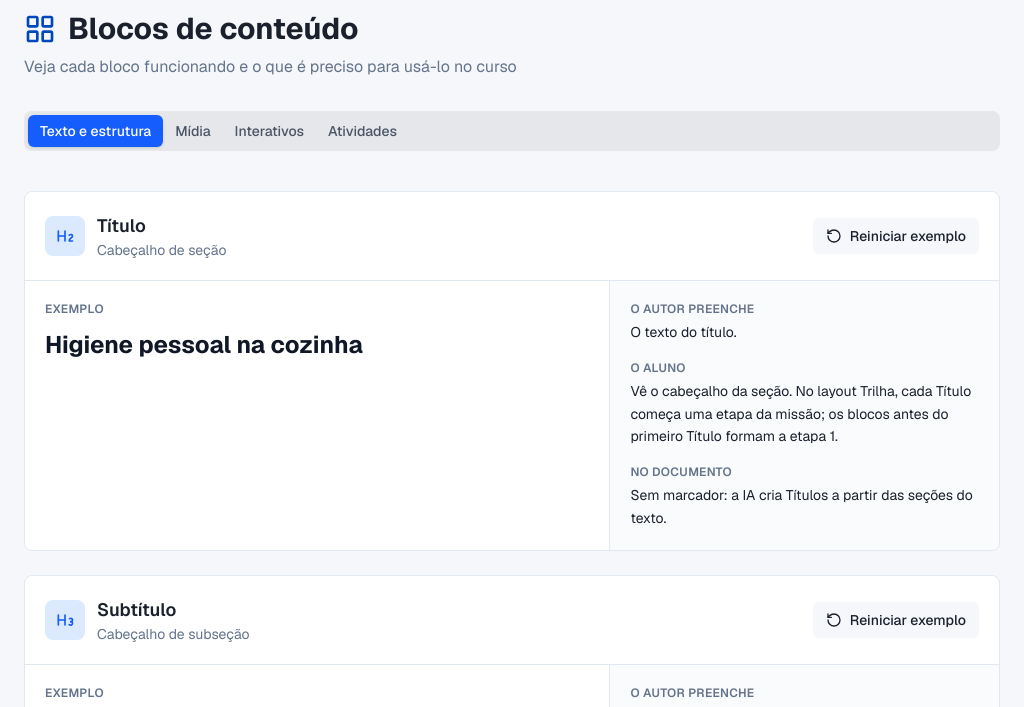
Scenario: blocks showcase page › lists the Atividades entries with their guide
Click the tab "Atividades". click: (362, 131)
box: left=316, top=115, right=409, bottom=147
(page scrolled)
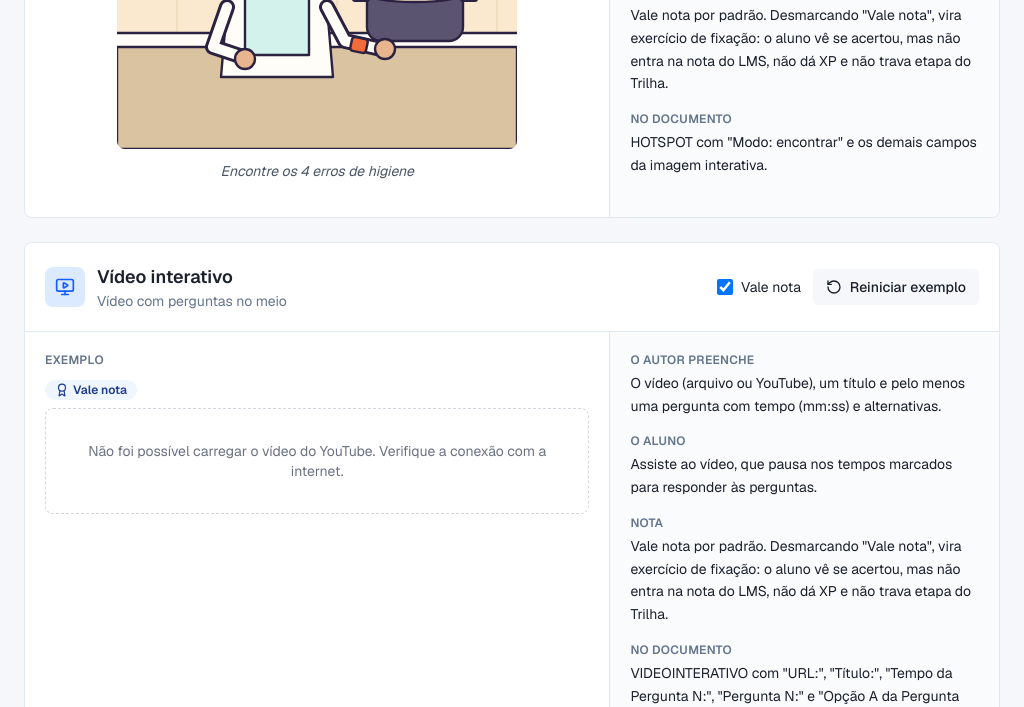
Result: the heading "Vídeo interativo" is shown at left=97, top=265, right=233, bottom=288
Result: the text "O vídeo (arquivo ou YouTube), um título e pelo menos uma pergunta com tempo (mm:ss) e alternativas." is shown at left=630, top=374, right=965, bottom=415
